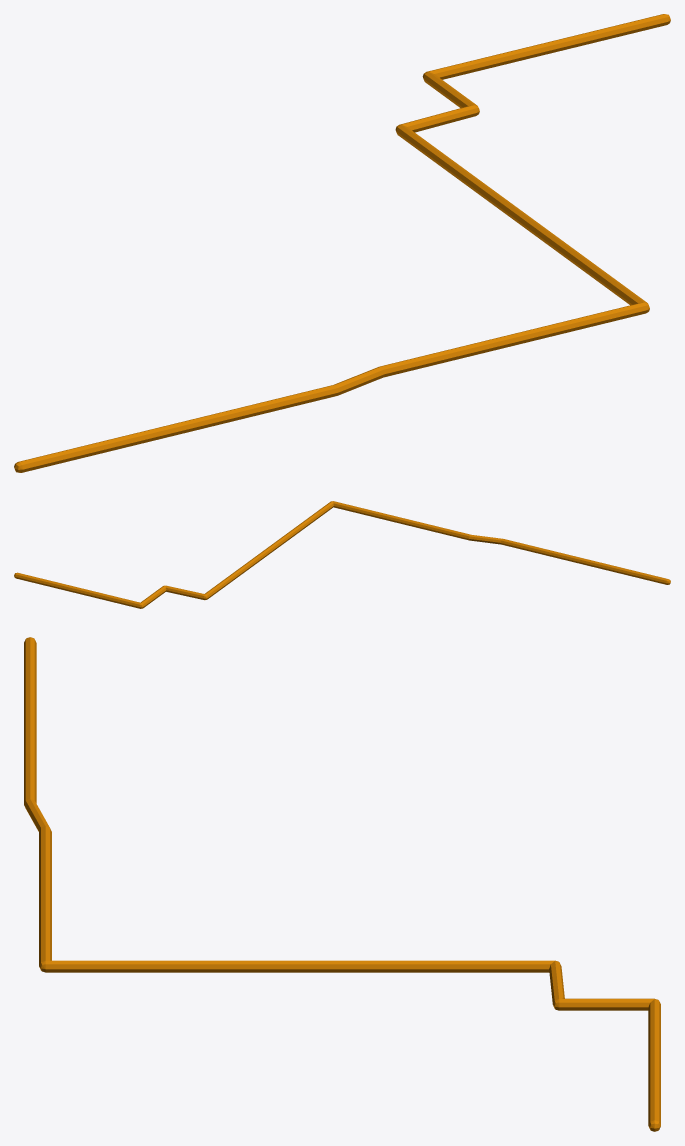
The picture shows the model from 3 angles, top to bottom: view 1: azimuth 30°, elevation 25°; view 2: azimuth 150°, elevation 25°; view 3: azimuth 270°, elevation 25°; orthographic projection. The views are drawn at different scales.
Size of the model in its own units: 1813 by 20 by 1000.
